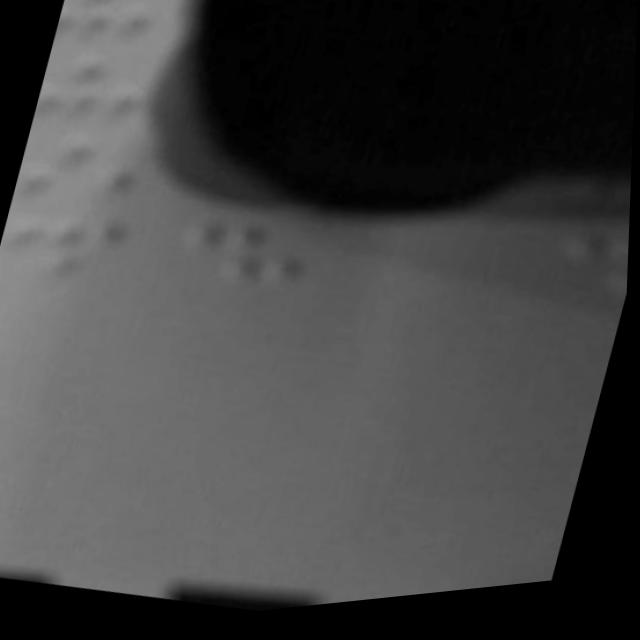braiile: (163, 200, 322, 309), (0, 191, 141, 298), (12, 117, 143, 226), (34, 40, 165, 143), (53, 0, 186, 68)
